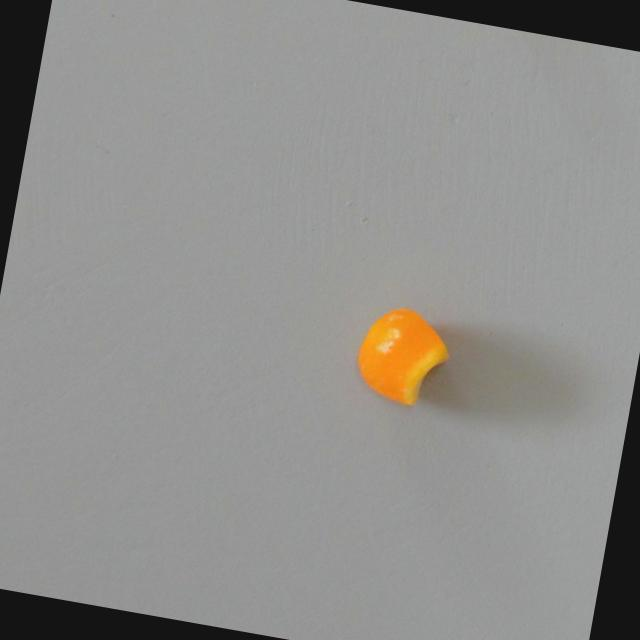pelicula: (346, 295, 459, 416)
